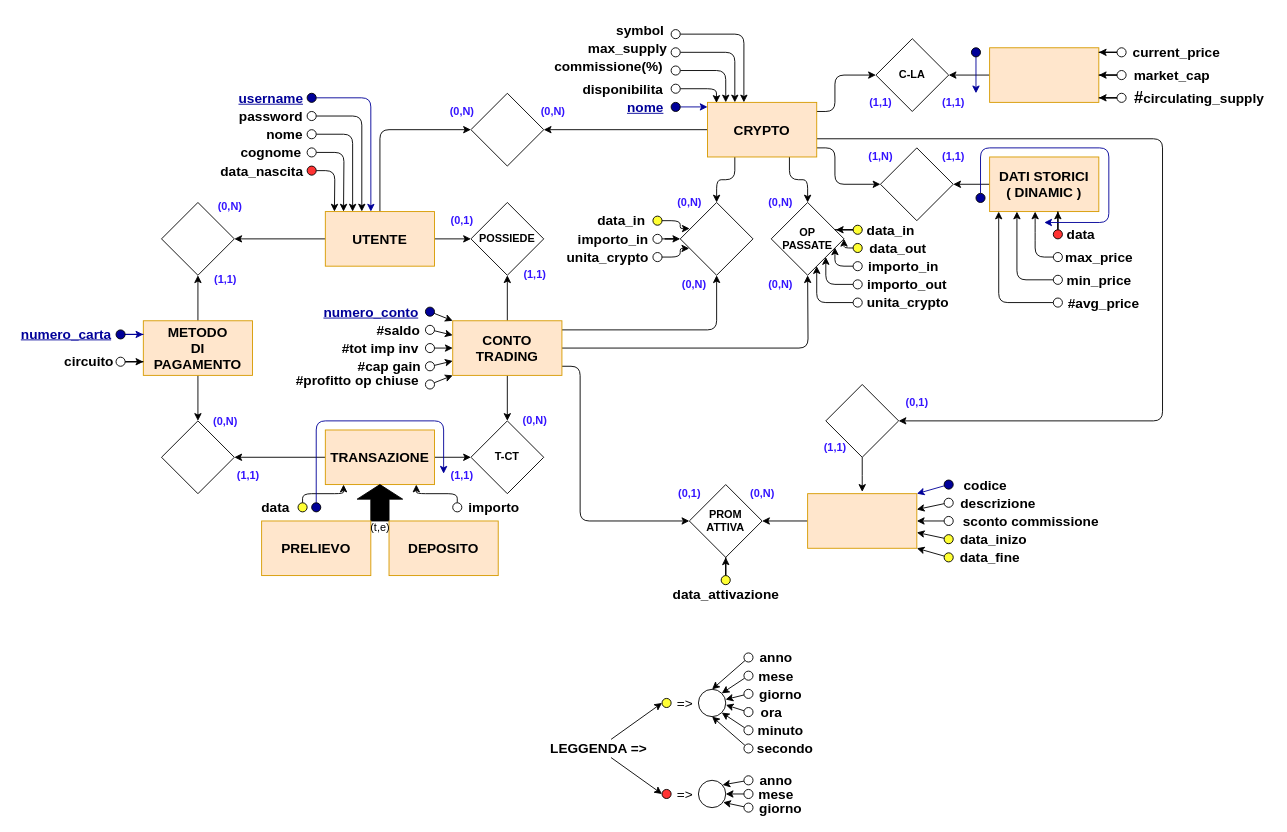
Some shapes in this 1287 by 832 pixel diagram are drawn without their labels. Here are the shapes that lost their labels. From the top down, the box of each, then its label:
(989, 47, 1099, 102): LISTINO ATTUALE ( DINAMIC )
(470, 92, 544, 166): OSSERVA
(880, 147, 953, 221): ISTANZA DI
(161, 202, 234, 275): ASSOCIATO
(679, 202, 753, 275): OP ATTUALI
(161, 420, 234, 494): MDP-T
(807, 493, 917, 548): PROMOZIONE CORRENTE
